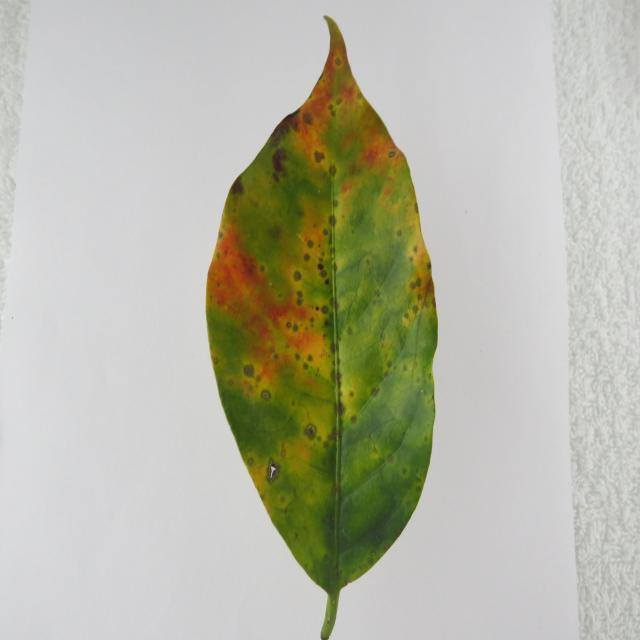DeficienciaNutricional-Fosforo: (206, 17, 438, 638)
